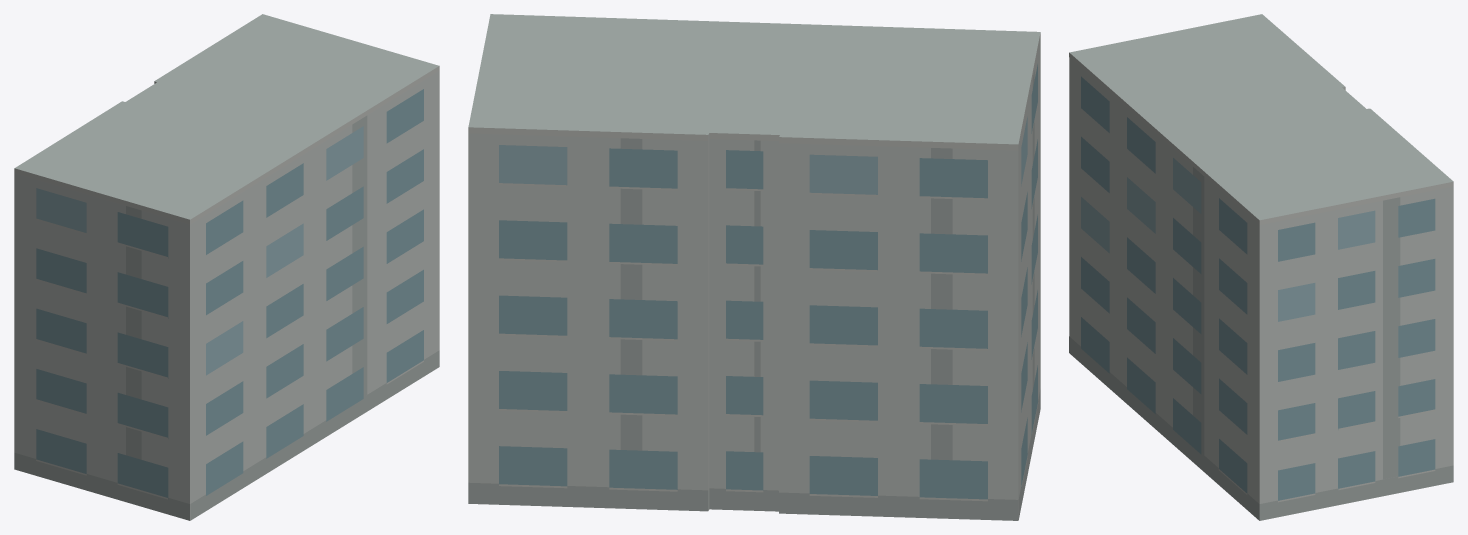
The model's file is survey-upis-32705966.glb.
3 views of the same model, side by side, from view 1: azimuth 30°, elevation 25°; view 2: azimuth 150°, elevation 25°; view 3: azimuth 270°, elevation 25° (orthographic). The views are drawn at different scales.
Parts seen in each view (by area): view 1: survey-upis-32705966.tmp; view 2: survey-upis-32705966.tmp; view 3: survey-upis-32705966.tmp.
Part boxes in pixels (<box>): survey-upis-32705966.tmp: <box>14,14,439,520</box>; survey-upis-32705966.tmp: <box>468,14,1040,520</box>; survey-upis-32705966.tmp: <box>1069,14,1453,520</box>.
Size of the model in its own units: 22.09 by 15 by 17.4.
